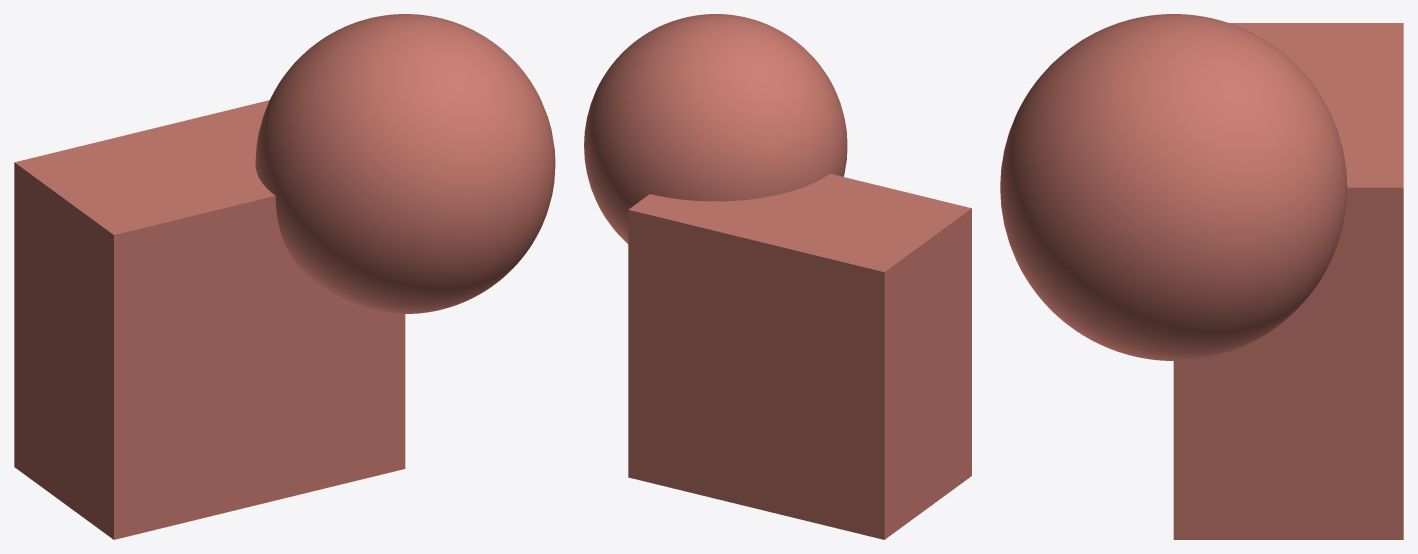
Rendered from ensayo 3D.gltf.
3 renders of one model, left to right at view 1: azimuth 30°, elevation 25°; view 2: azimuth 150°, elevation 25°; view 3: azimuth 270°, elevation 25°, orthographic. The views are drawn at different scales.
Size of the model in its own units: 163 by 163 by 117.
